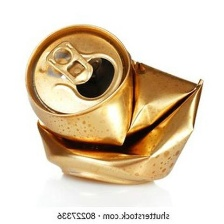can: (22, 20, 207, 186)
